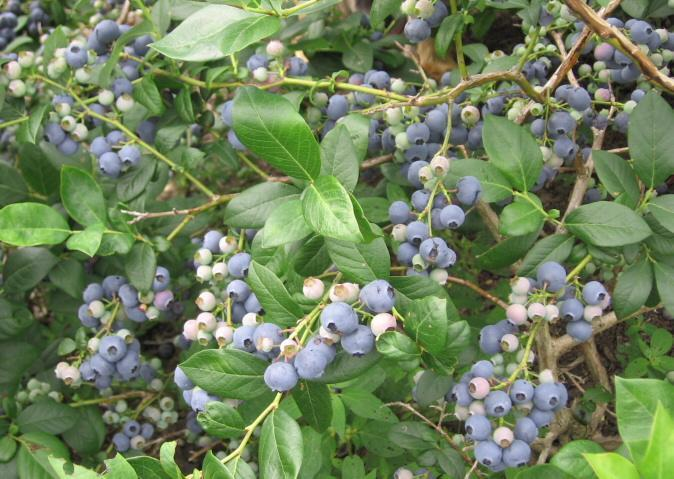Blueberry leaf: (140, 1, 288, 65), (234, 85, 318, 187), (211, 182, 315, 251), (175, 345, 287, 405), (477, 112, 550, 199), (553, 200, 654, 256), (620, 87, 674, 186), (242, 250, 301, 331), (252, 400, 309, 479), (308, 181, 367, 249), (56, 160, 110, 233), (397, 295, 454, 362), (2, 200, 63, 257), (326, 122, 368, 190), (371, 423, 439, 456)
